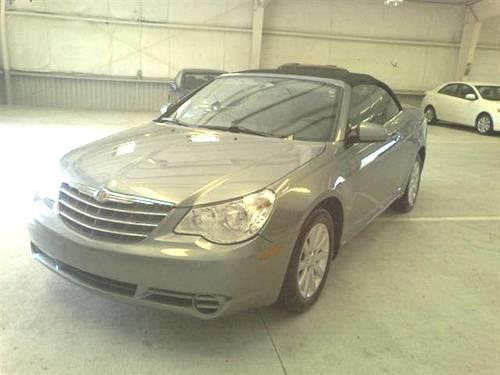Chrysler: (56, 175, 177, 222)
